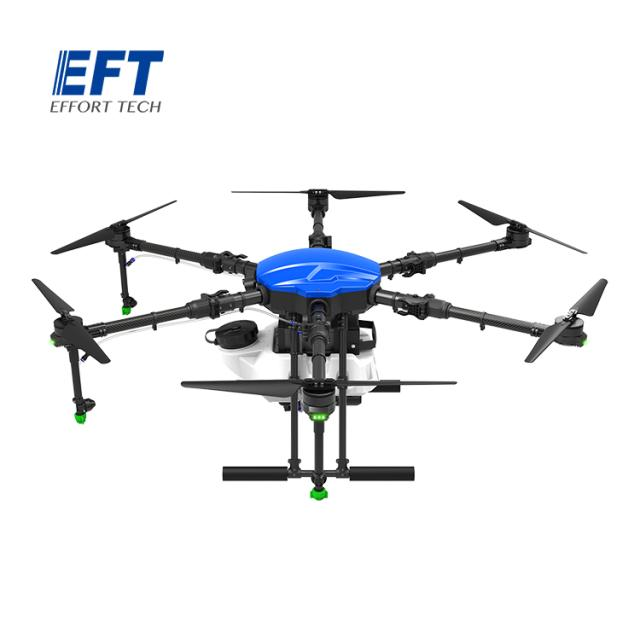drone: (10, 169, 611, 496)
